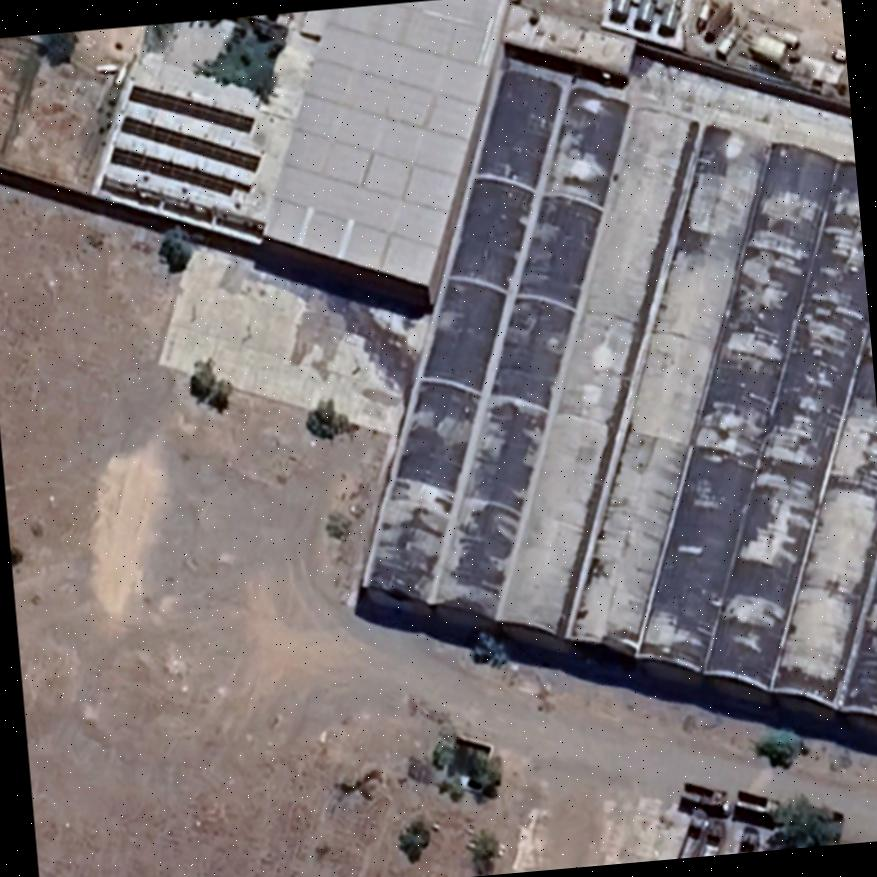Solarpanel: (113, 114, 263, 174), (104, 144, 252, 202), (121, 84, 259, 135)
